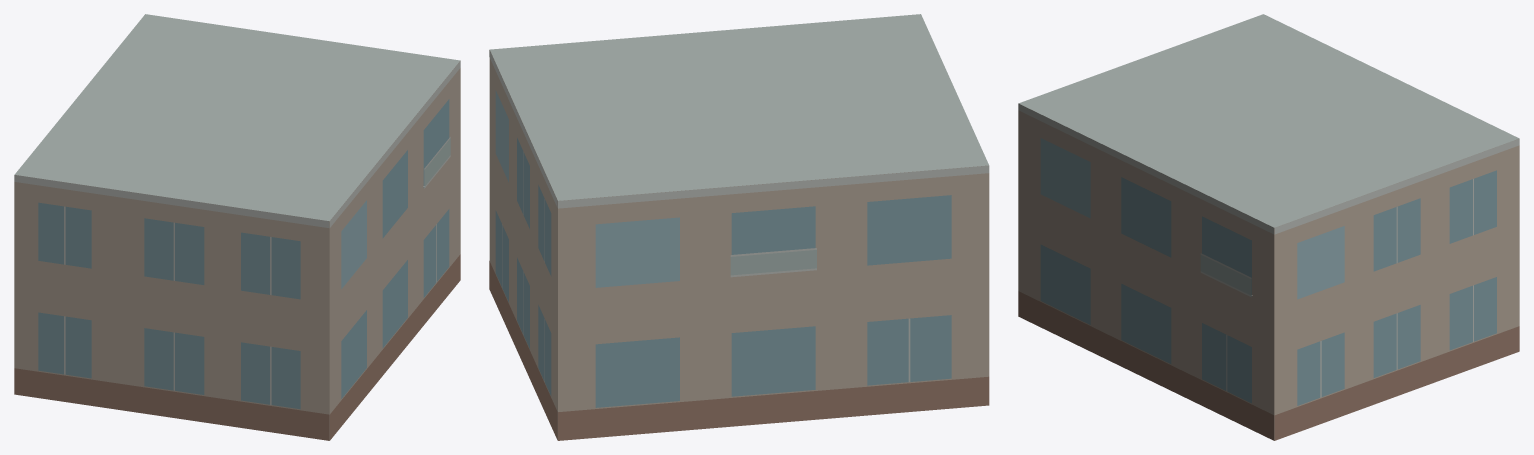
File: survey-upis-32638887.glb
3 views of the same model, side by side, from view 1: azimuth 30°, elevation 25°; view 2: azimuth 150°, elevation 25°; view 3: azimuth 270°, elevation 25° (orthographic). The views are drawn at different scales.
Visible parts, largest first — view 1: survey-upis-32638887.tmp; view 2: survey-upis-32638887.tmp; view 3: survey-upis-32638887.tmp.
Boxes of the visible parts, x1,y1,x2,y2 form: survey-upis-32638887.tmp: (14, 14, 460, 440); survey-upis-32638887.tmp: (489, 14, 989, 440); survey-upis-32638887.tmp: (1018, 14, 1519, 440).
Size of the model in its own units: 16.37 by 7.6 by 16.21.
